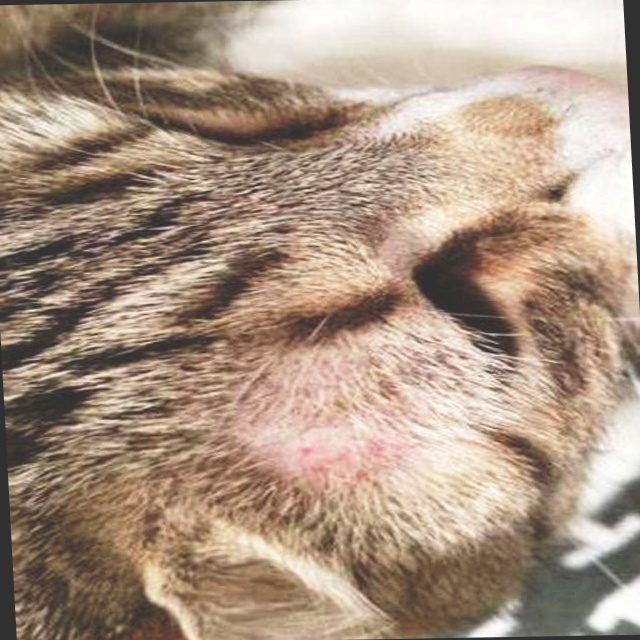ringworm: (239, 373, 448, 489)
